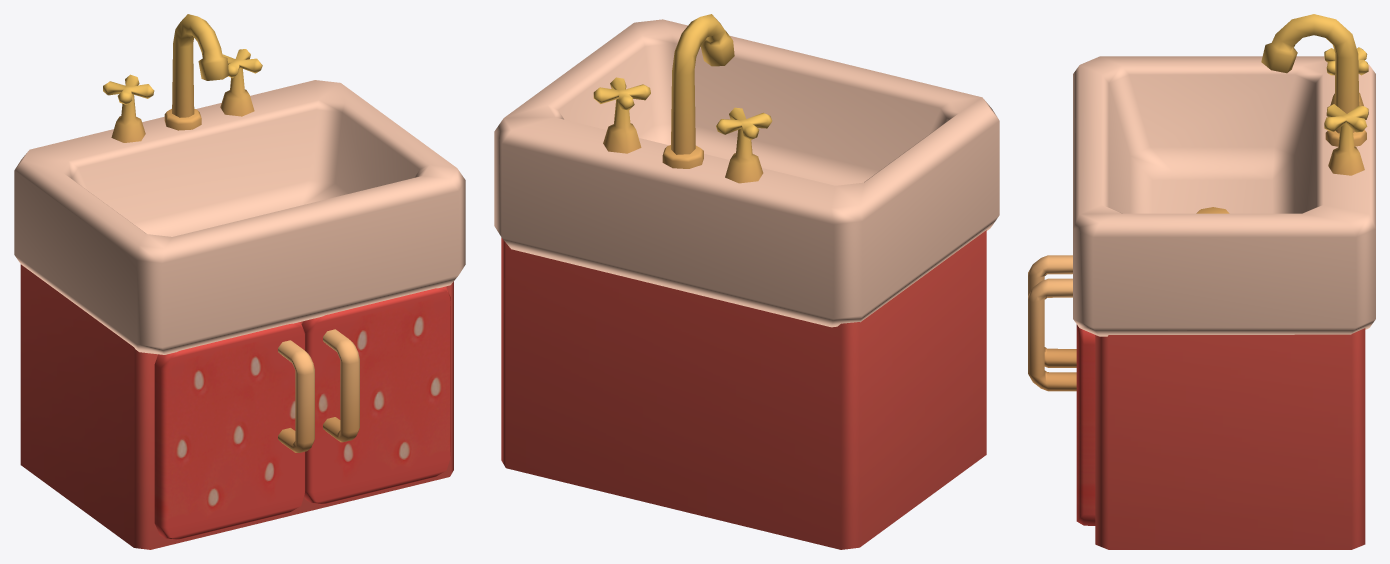
Rendered from Homestead_cm_13.fbx.
The picture shows the model from 3 angles, left to right: view 1: azimuth 30°, elevation 25°; view 2: azimuth 150°, elevation 25°; view 3: azimuth 270°, elevation 25°; orthographic projection. The views are drawn at different scales.
Visible parts, largest first — view 1: Homestead_cm_13; view 2: Homestead_cm_13; view 3: Homestead_cm_13.
Part boxes in pixels (<box>): Homestead_cm_13: <box>14,14,465,549</box>; Homestead_cm_13: <box>494,14,999,549</box>; Homestead_cm_13: <box>1028,14,1375,549</box>.
Size of the model in its own units: 124 by 153 by 106.
